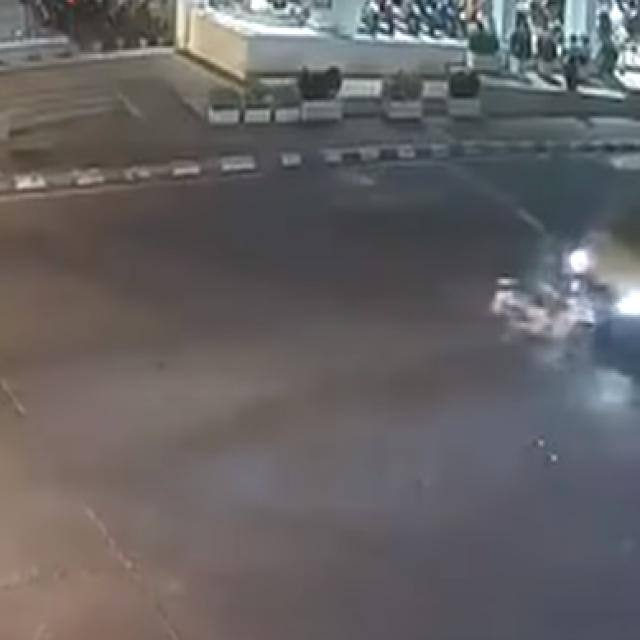accident: (488, 196, 640, 344)
